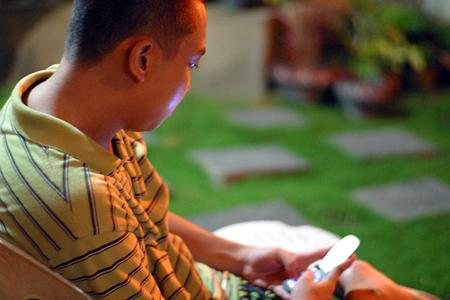person: (2, 2, 357, 300)
